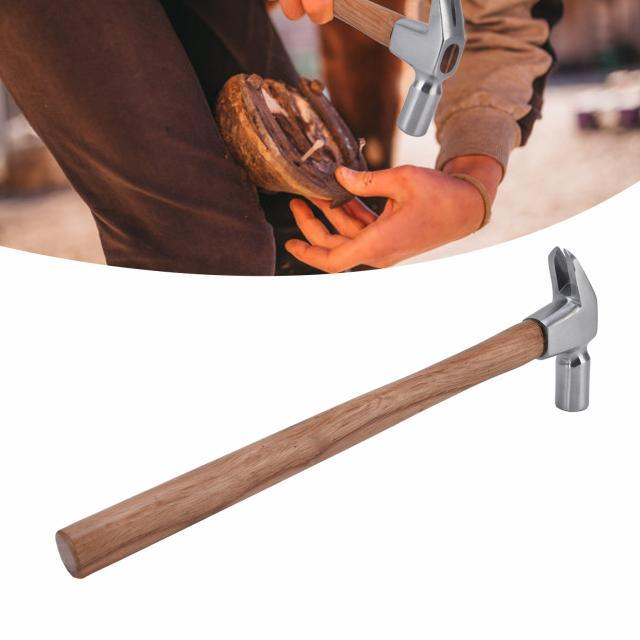hammer: (45, 236, 602, 587)
